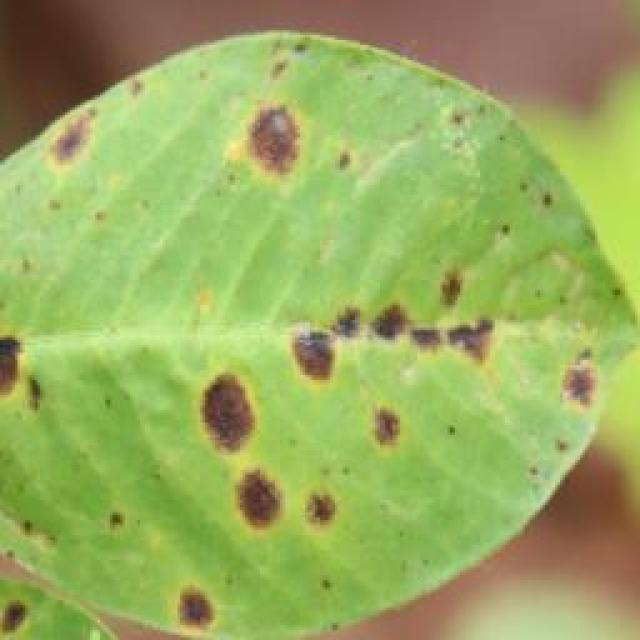Yellowish: (18, 42, 618, 631)
